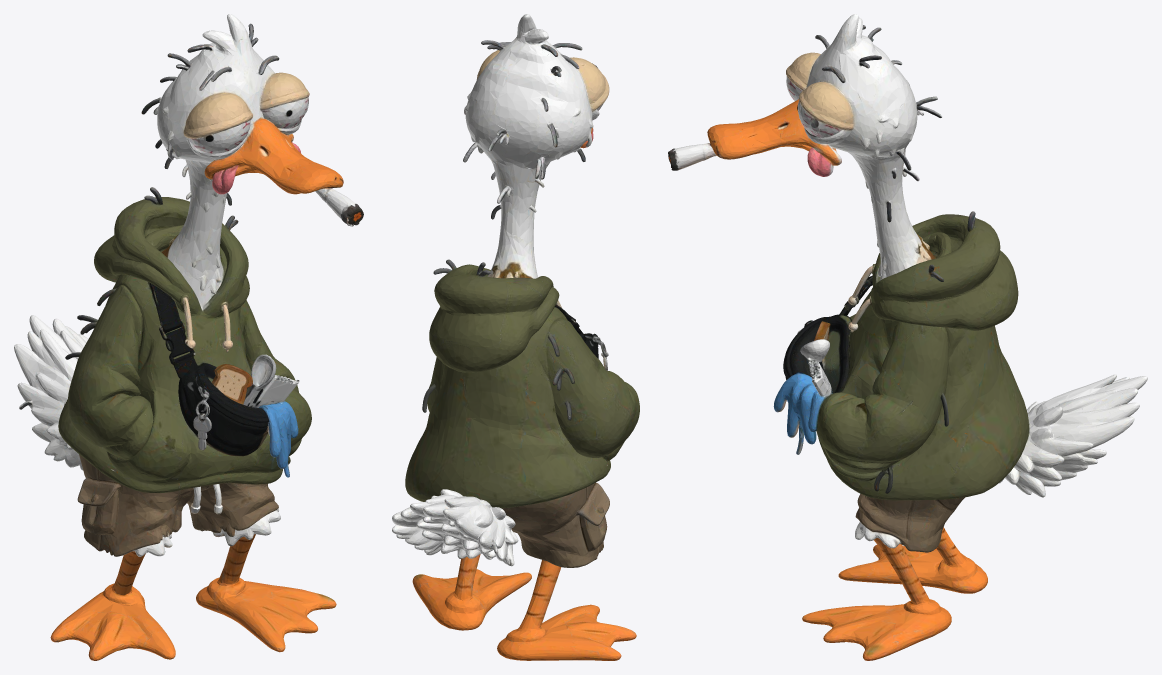
The model's file is miki.glb.
The picture shows the model from 3 angles, left to right: view 1: azimuth 30°, elevation 25°; view 2: azimuth 150°, elevation 25°; view 3: azimuth 270°, elevation 25°; orthographic projection. The views are drawn at different scales.
Size of the model in its own units: 0.8032 by 1.9 by 1.39.
1 material, 1 textured.
